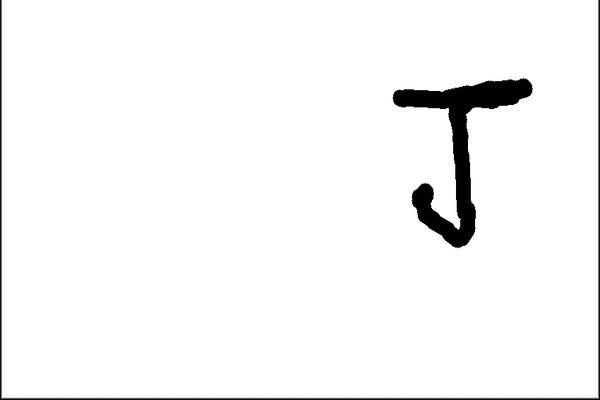J: (387, 66, 537, 247)
